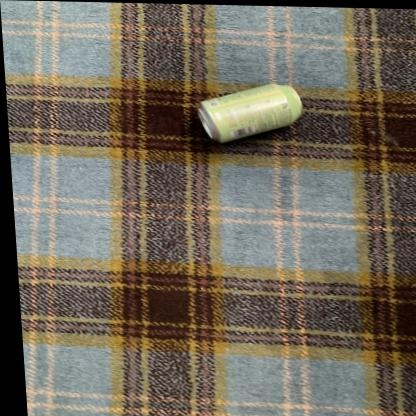trash: (198, 84, 301, 142)
